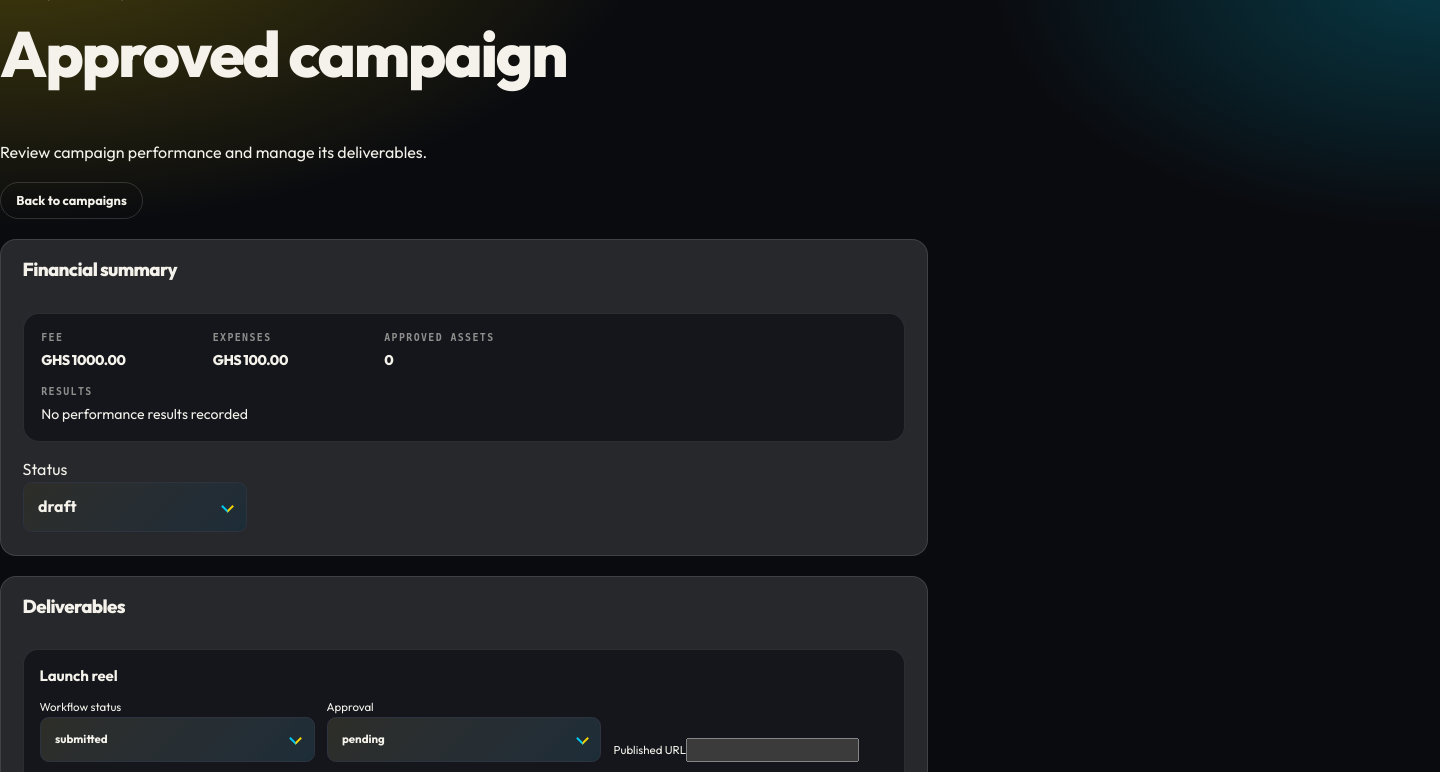
updates a deliverable approval and publish workflow
Expected: the text "Launch reel" is shown, [40,666,117,686]
Click the button with aria-label "Launch reel workflow status" at [81, 739], box [40,716,314,762]
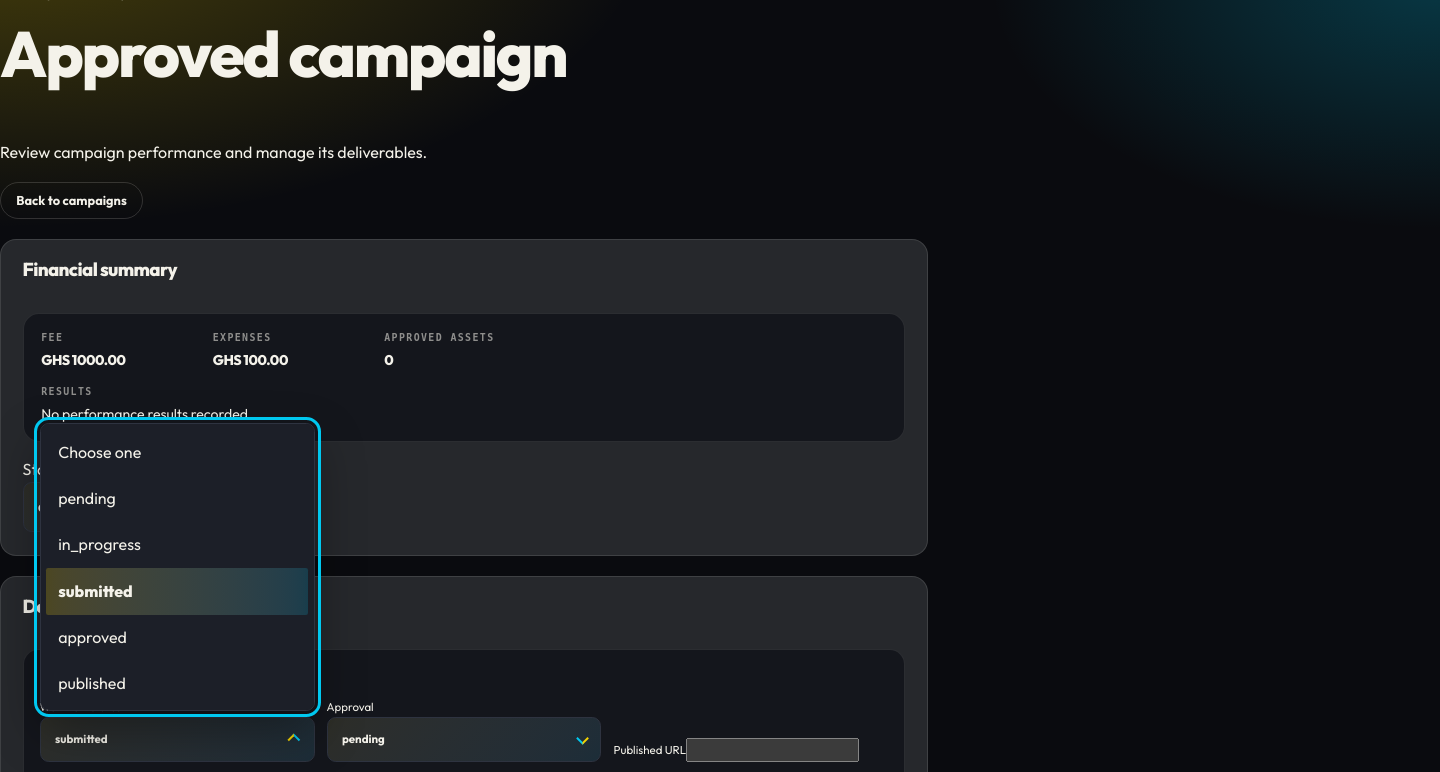
Click the option "published" at [92, 683], box [58,673,126,693]
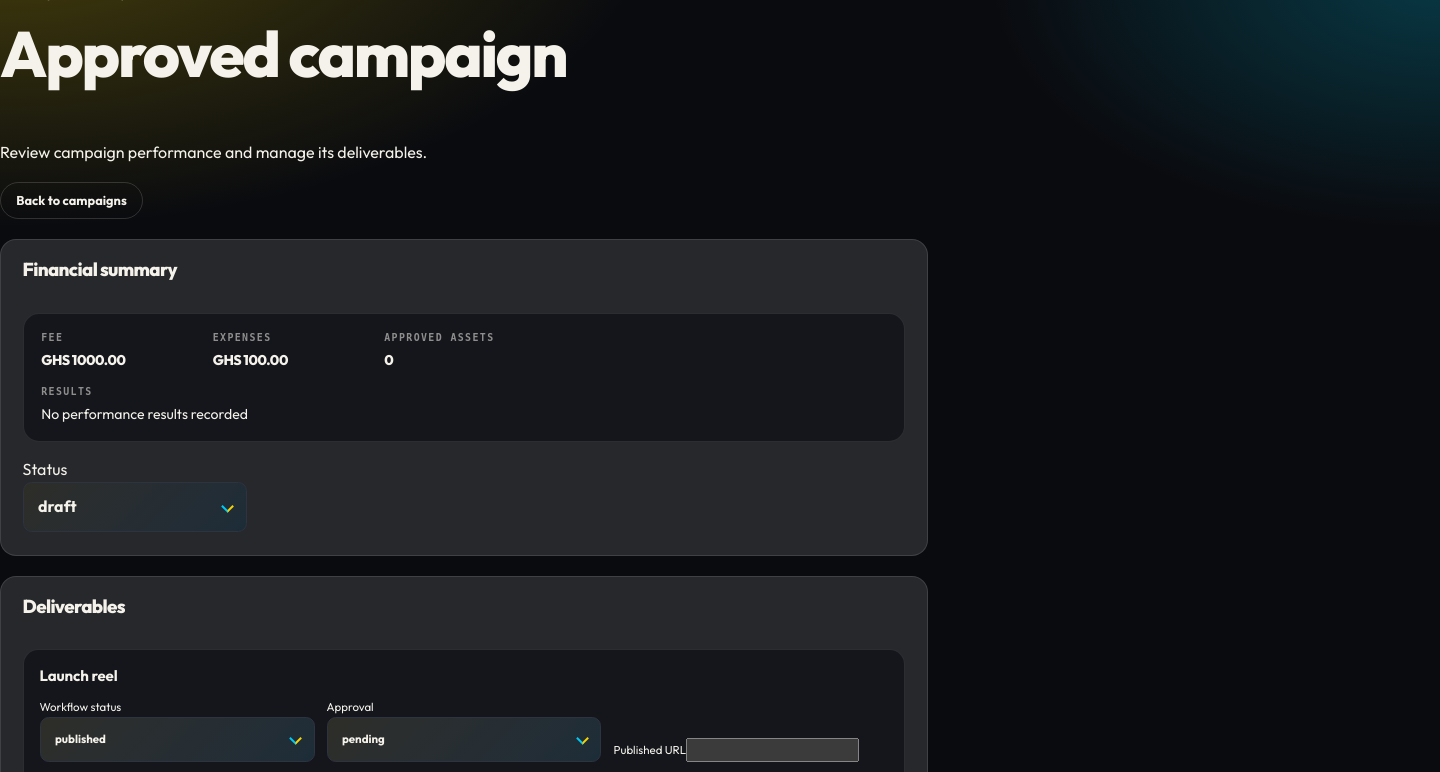
Click the button with aria-label "Launch reel approval" at [363, 739], box [326,716,601,762]
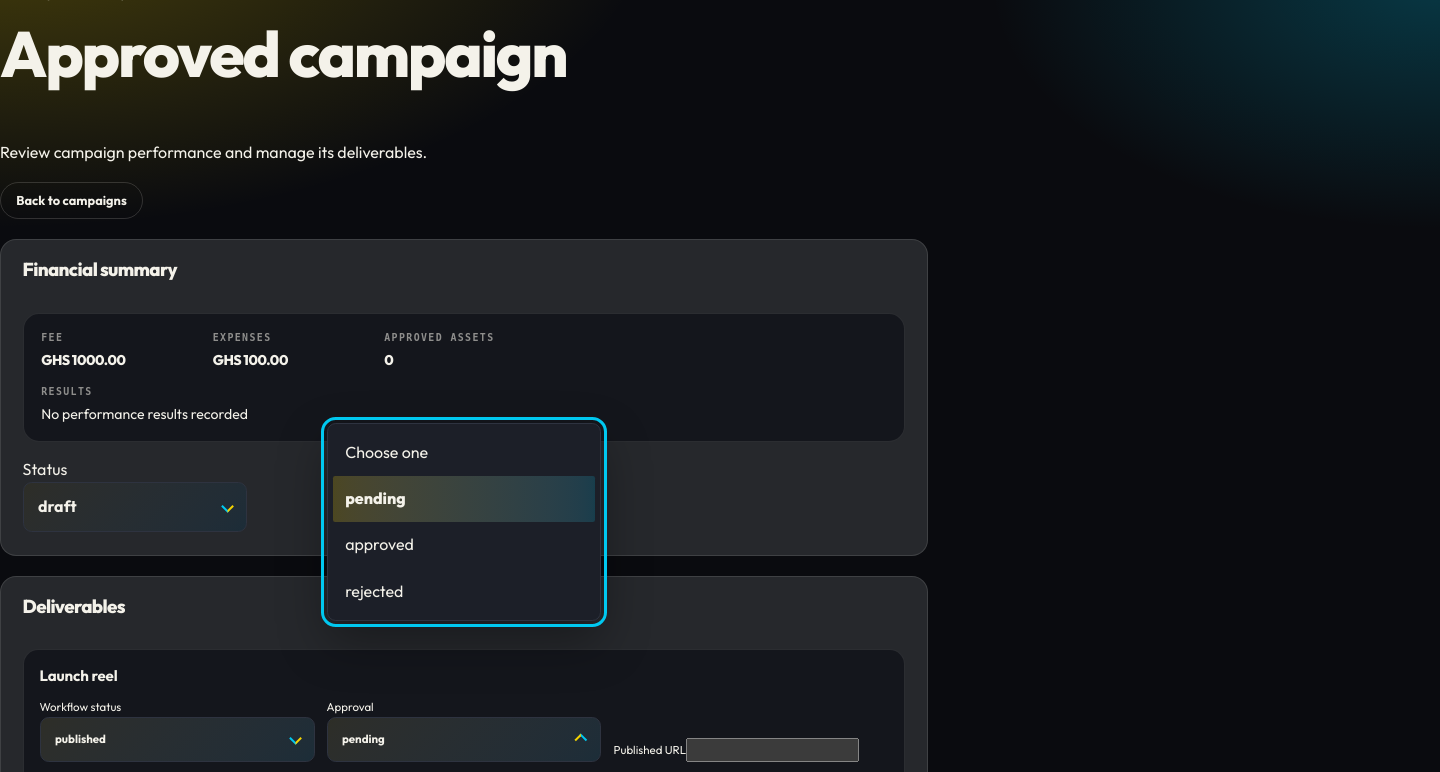
Click the option "approved" at [379, 544], box [345,534,414,554]
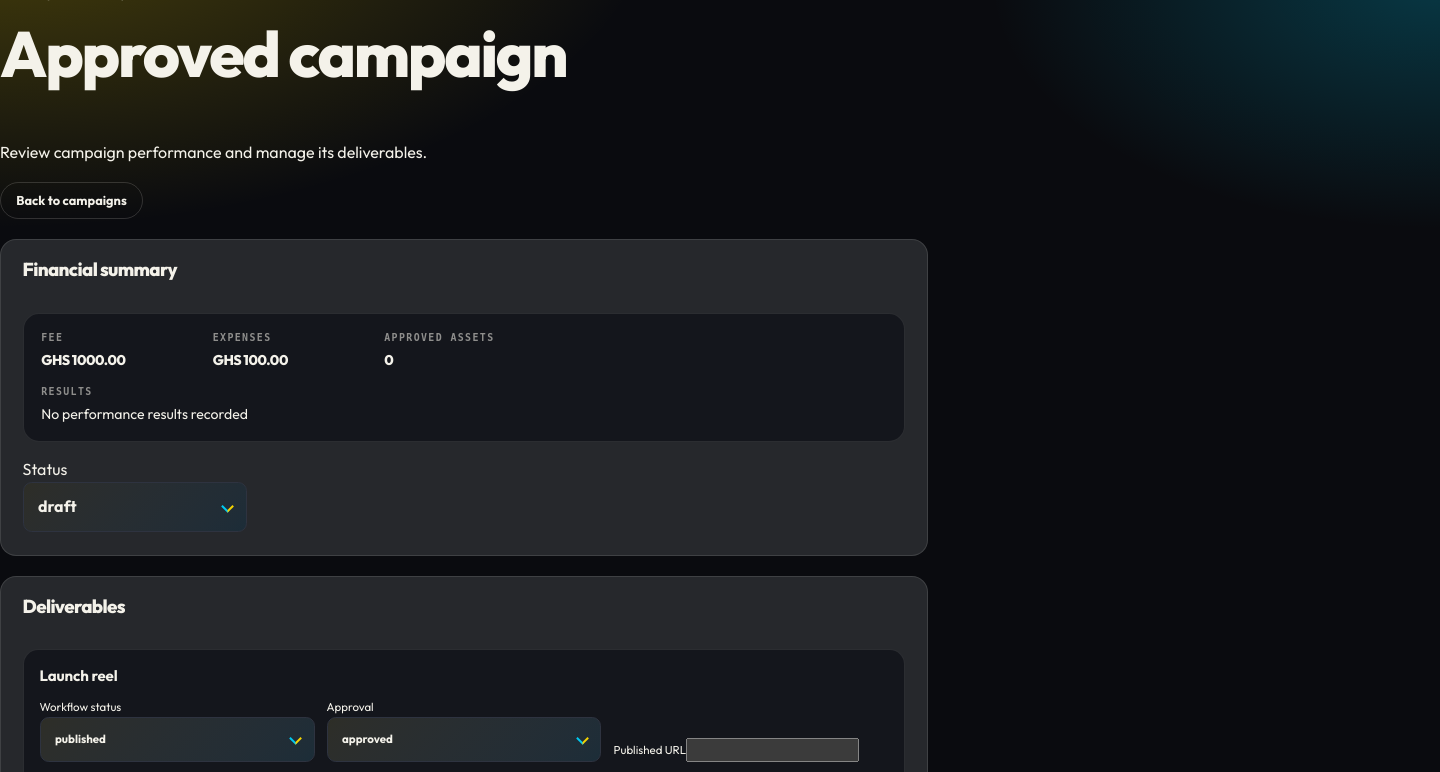
Type "https://example.test/reel" into the field named "Launch reel published URL" at [772, 750], box [686,738,859,762]
(page scrolled)
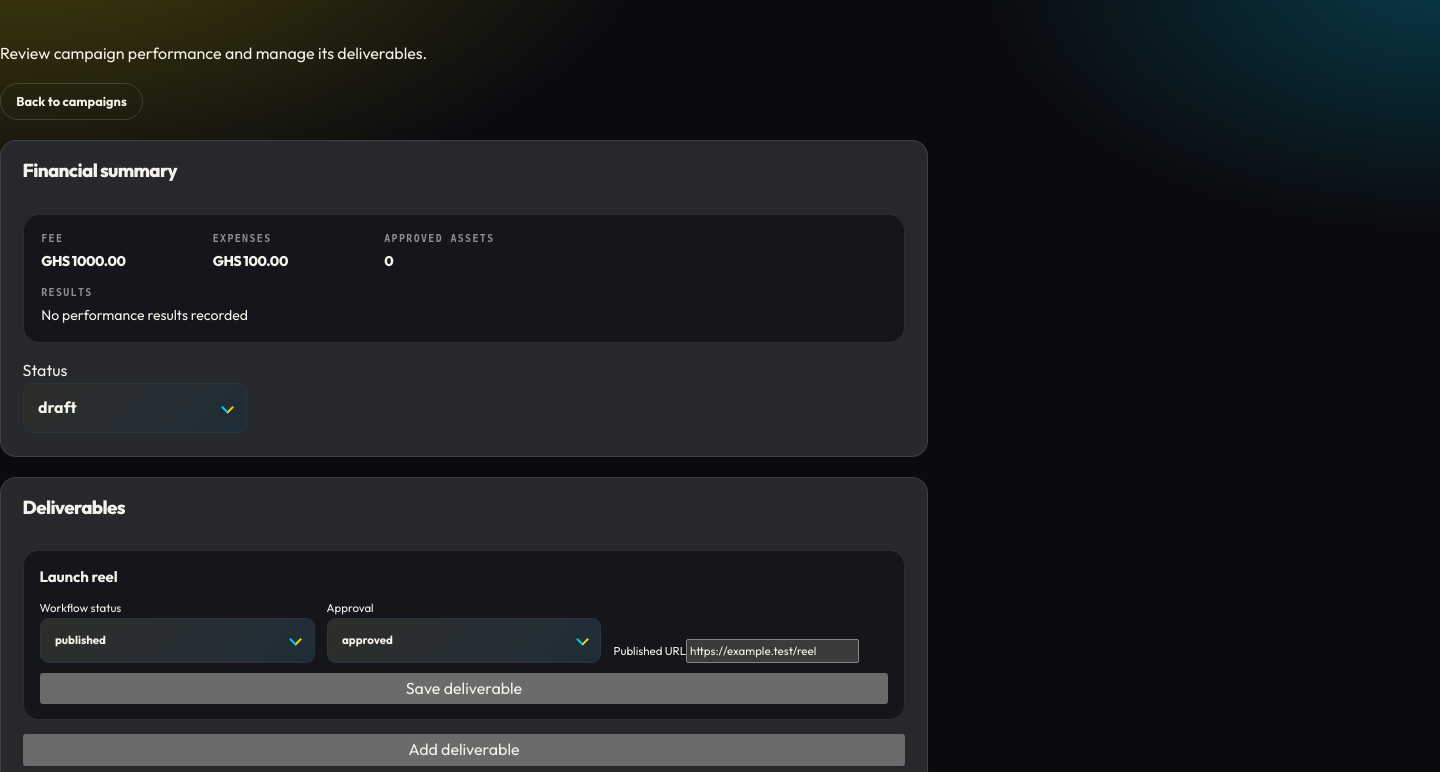
Click the button "Save deliverable" at [464, 688], box [40,673,888,704]
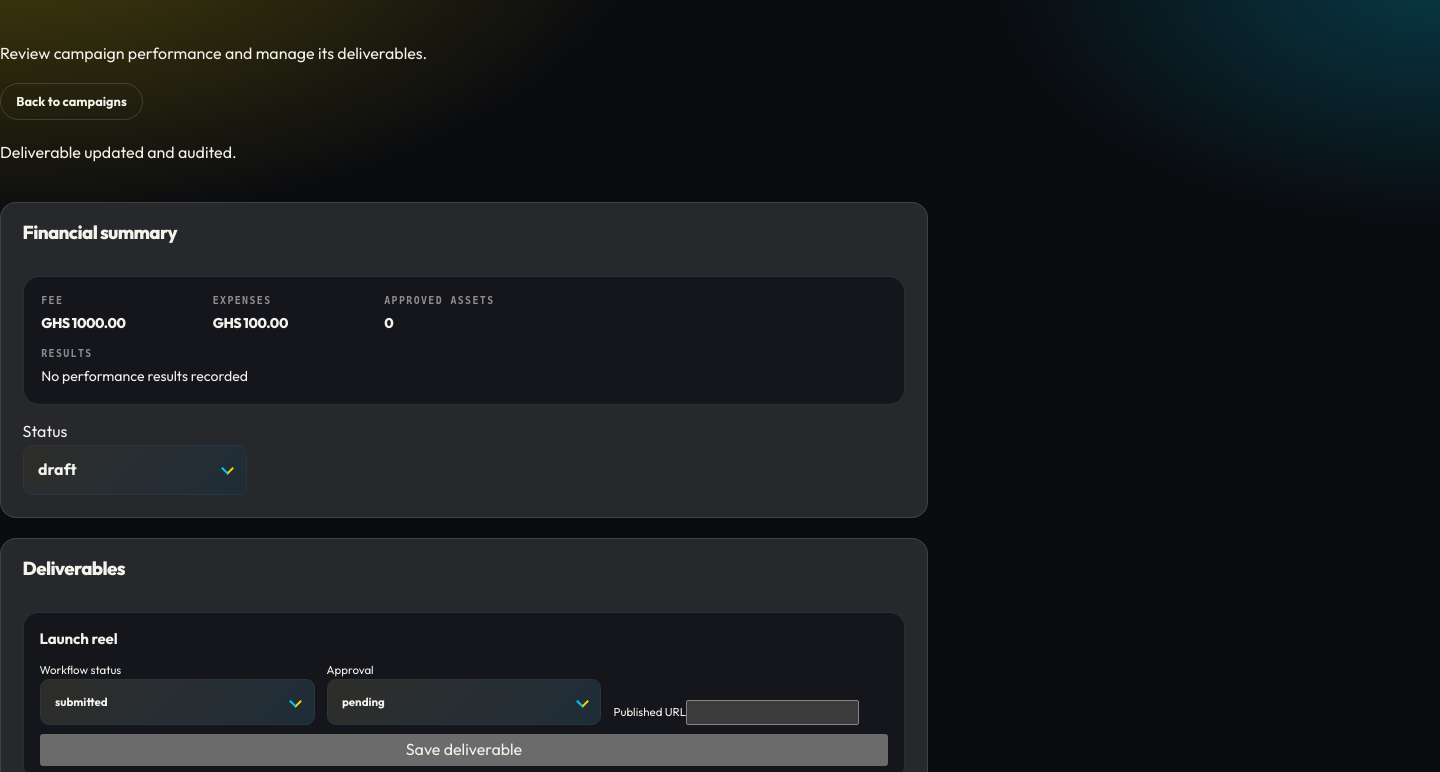
Expected: the text "Deliverable updated and audited." is shown, [0,142,237,162]
